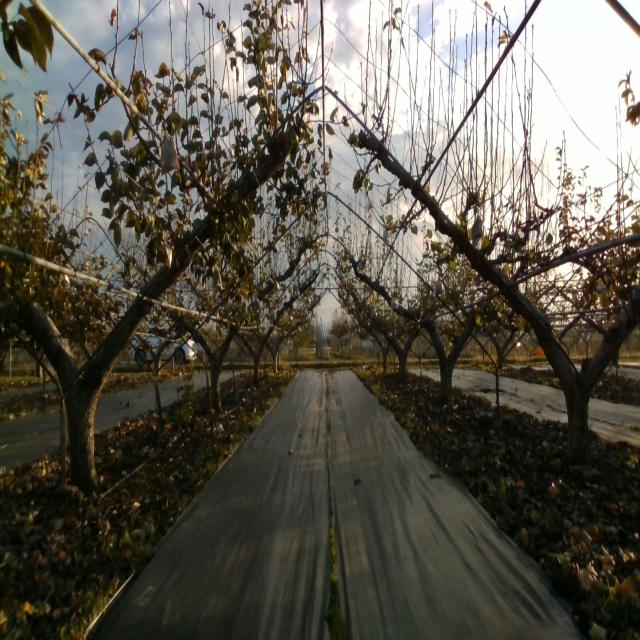pearbags: (160, 127, 181, 176), (471, 214, 483, 250), (162, 240, 173, 269), (432, 277, 446, 298)
